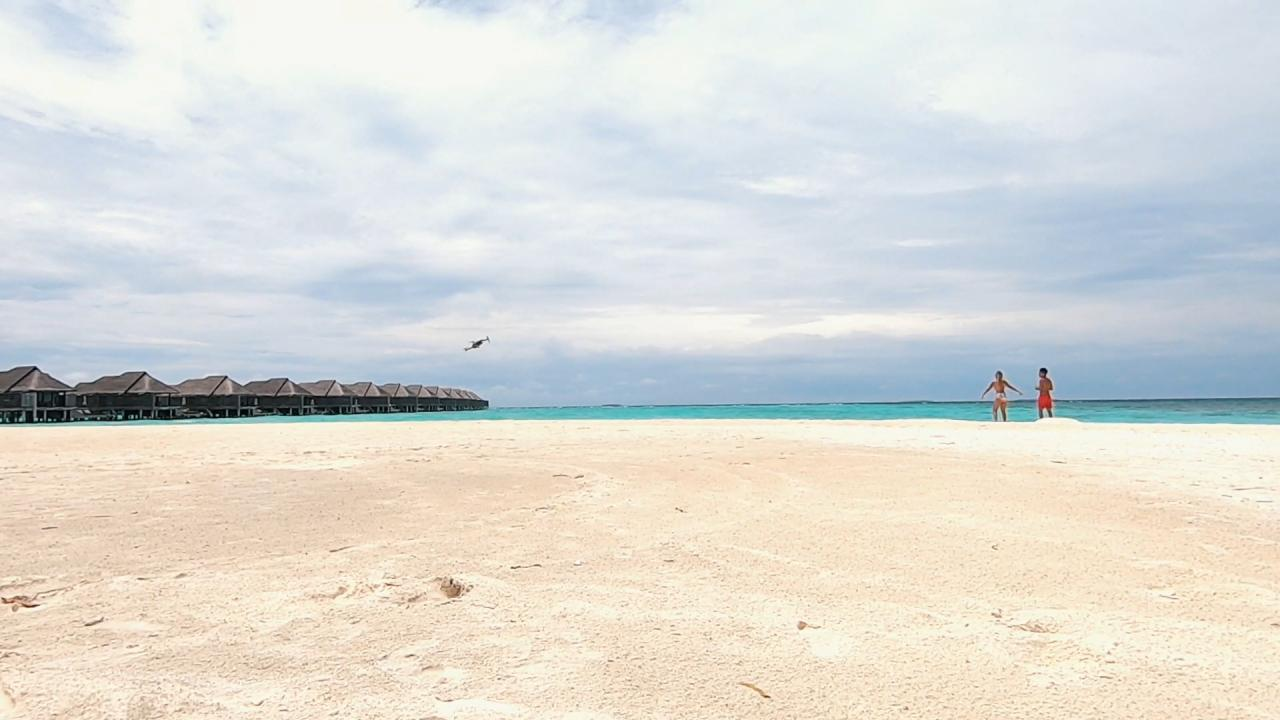Drone: (453, 326, 501, 360)
